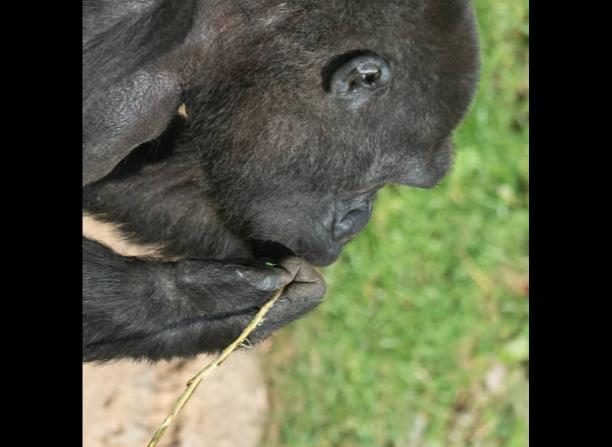gorille_Autres: (82, 0, 490, 397)
